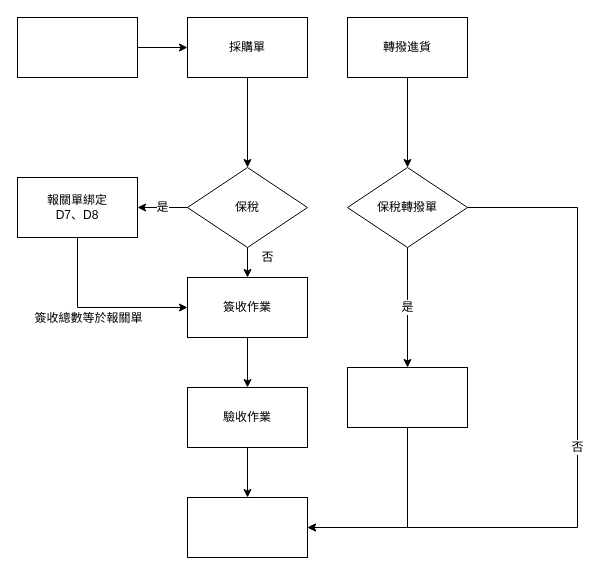
The diagram is 603 pixels wide and 575 high, and some of its shapes have lost their labels. Here are the shapes that lost their labels. From the top down, the box of each, then its label:
(16, 16, 138, 78): 請購單
(346, 366, 468, 428): 依照報關單 數量入庫
(186, 496, 308, 558): SLAO/SLAG 庫存
